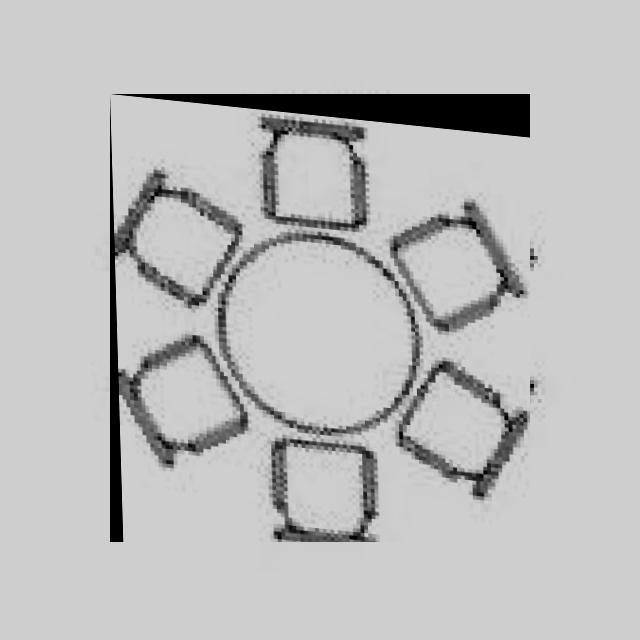table: (110, 94, 530, 542)
